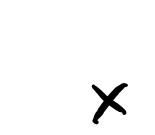mult: (92, 83, 130, 125)
